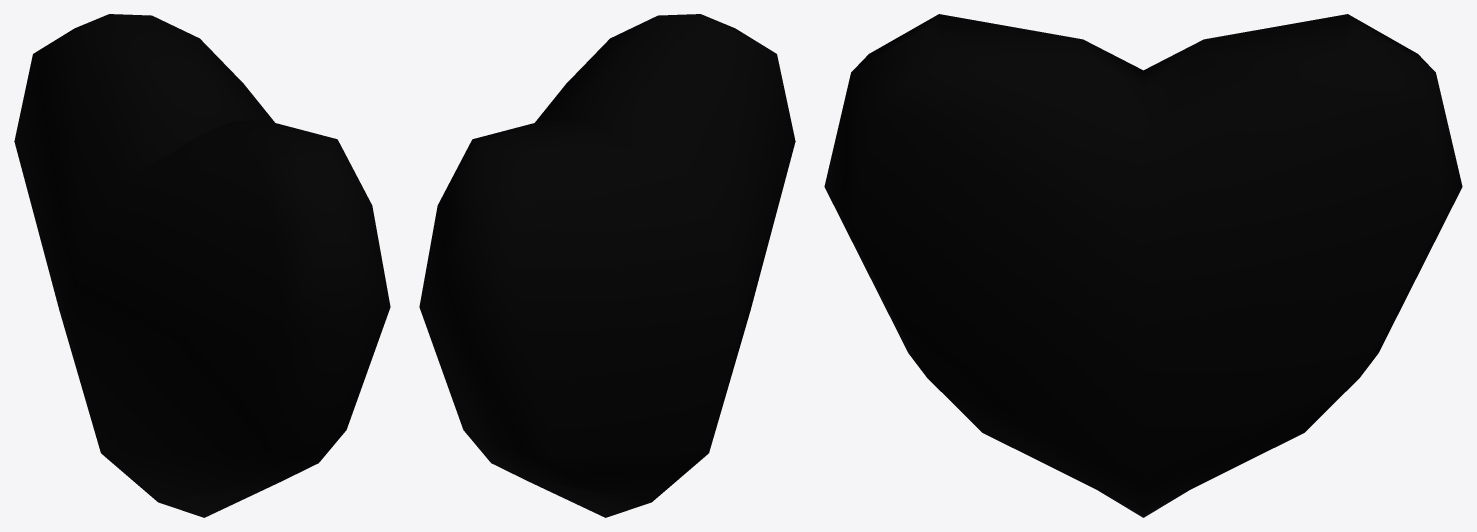
Rendered from SM_Heart.fbx.
3 views of the same model, side by side, from view 1: azimuth 30°, elevation 25°; view 2: azimuth 150°, elevation 25°; view 3: azimuth 270°, elevation 25° (orthographic). The views are drawn at different scales.
Parts seen in each view (by area): view 1: pSphere2; view 2: pSphere2; view 3: pSphere2.
Part boxes in pixels (x1,y1,x2,y2): pSphere2: (14,14,390,517); pSphere2: (419,14,795,517); pSphere2: (824,14,1462,517).
Size of the model in its own units: 68.96 by 109 by 129.
1 material, 1 textured.
